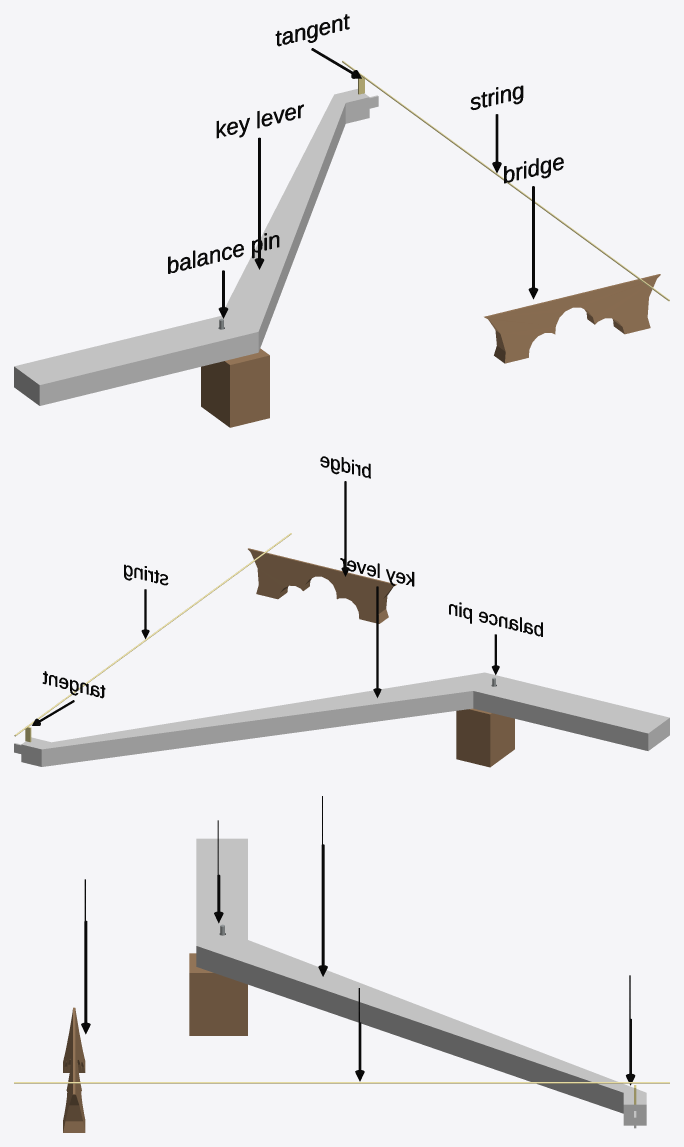
Rendered from clavichord_action_diagram_compressed.glb.
3 renders of one model, top to bottom at view 1: azimuth 30°, elevation 25°; view 2: azimuth 150°, elevation 25°; view 3: azimuth 270°, elevation 25°, orthographic. The views are drawn at different scales.
Bounding box in the file's own units: 282 × 117 × 283.
